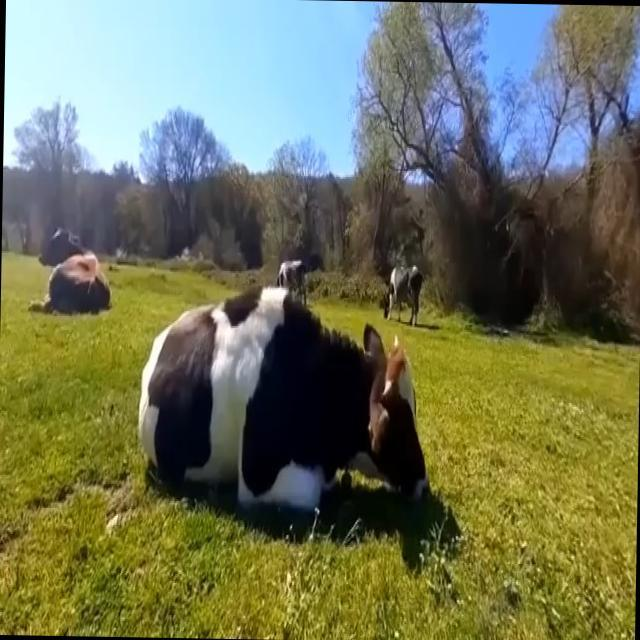COW: (138, 260, 427, 510), (30, 252, 110, 311), (388, 266, 421, 323)
